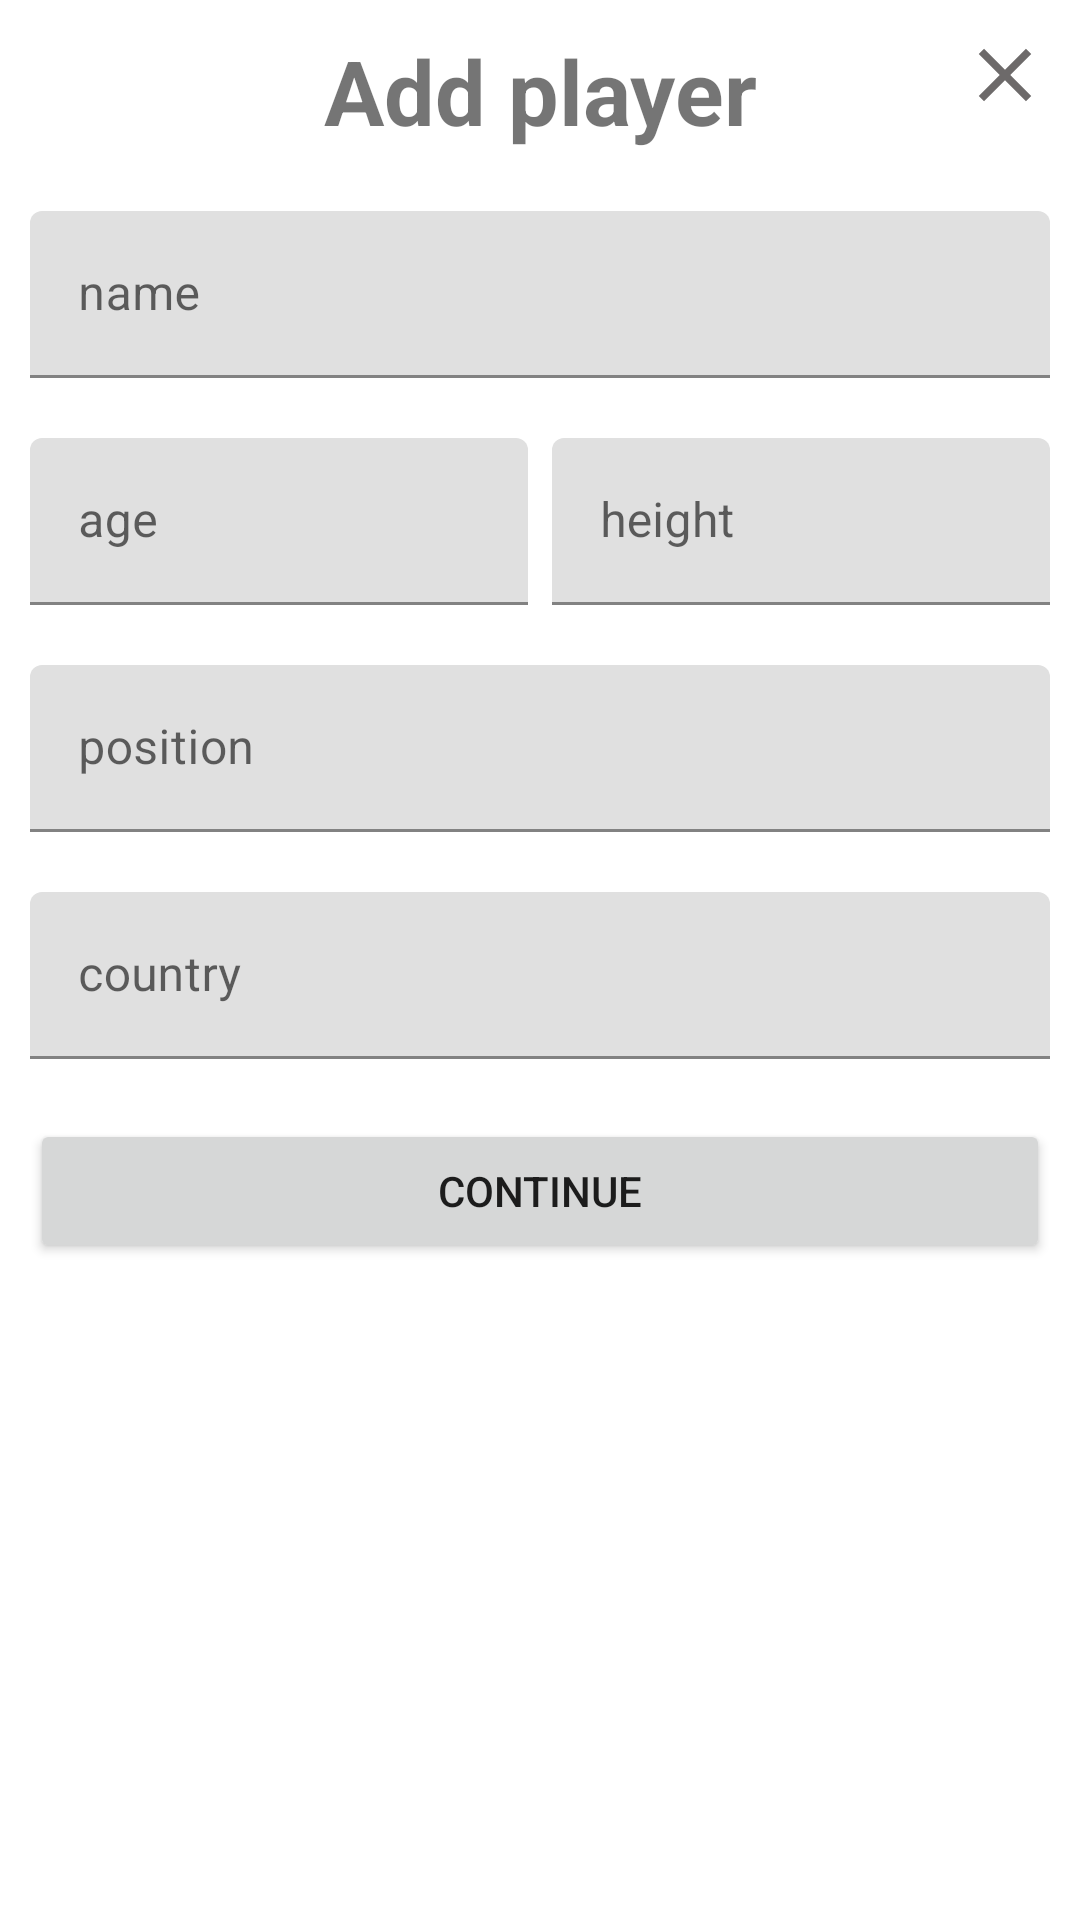

Icons on this 1080 x 1920 Android screen, each with the point to tap as point (x, y):
close: point (1005, 75)
